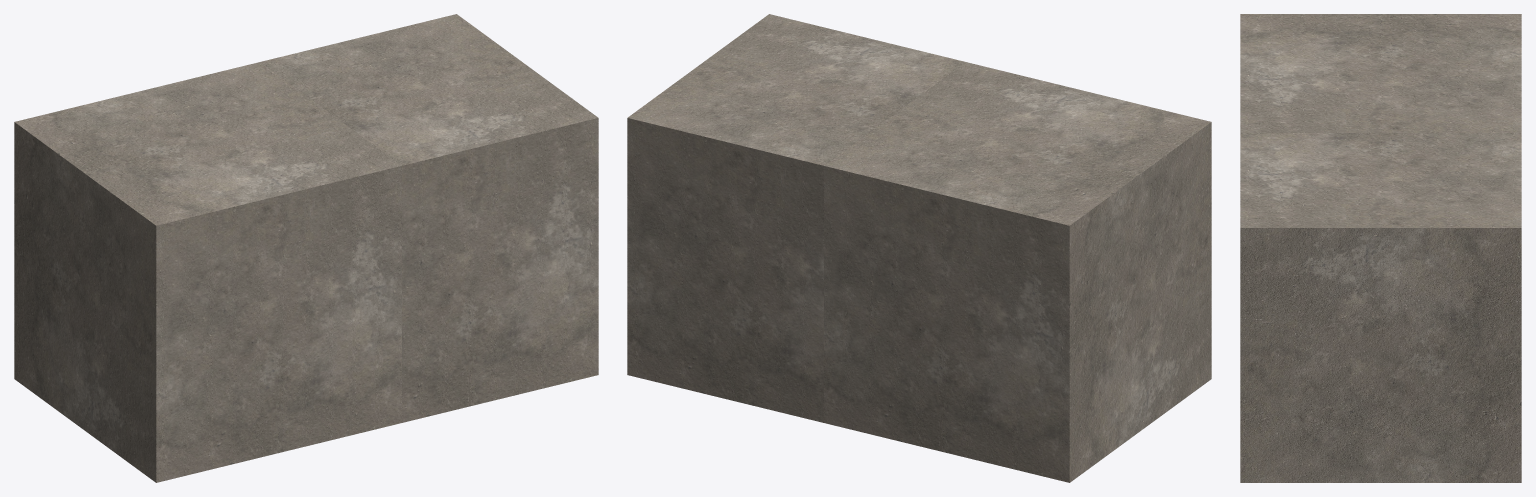
File: native-bad-light.glb
3 renders of one model, left to right at view 1: azimuth 30°, elevation 25°; view 2: azimuth 150°, elevation 25°; view 3: azimuth 270°, elevation 25°, orthographic.
Bounding box in the file's own units: 3.6 × 2 × 2.
1 material, 1 textured.
